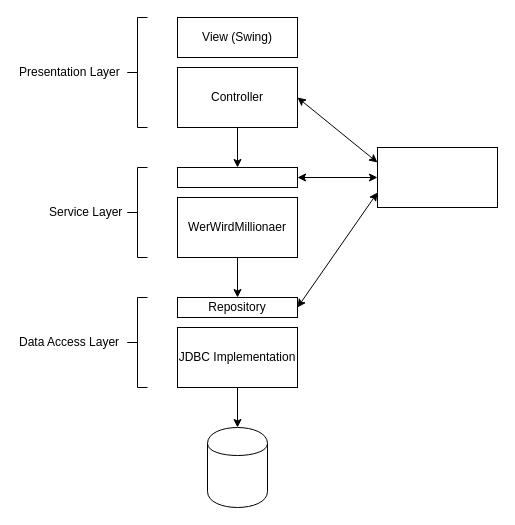
Image size: 515x525. Some labels were removed from this diagram. Each missing label, with the centre of its shape:
"DB" belongs at [237,467].
"Game" belongs at [237,177].
"Question, Highscore" belongs at [437,177].
